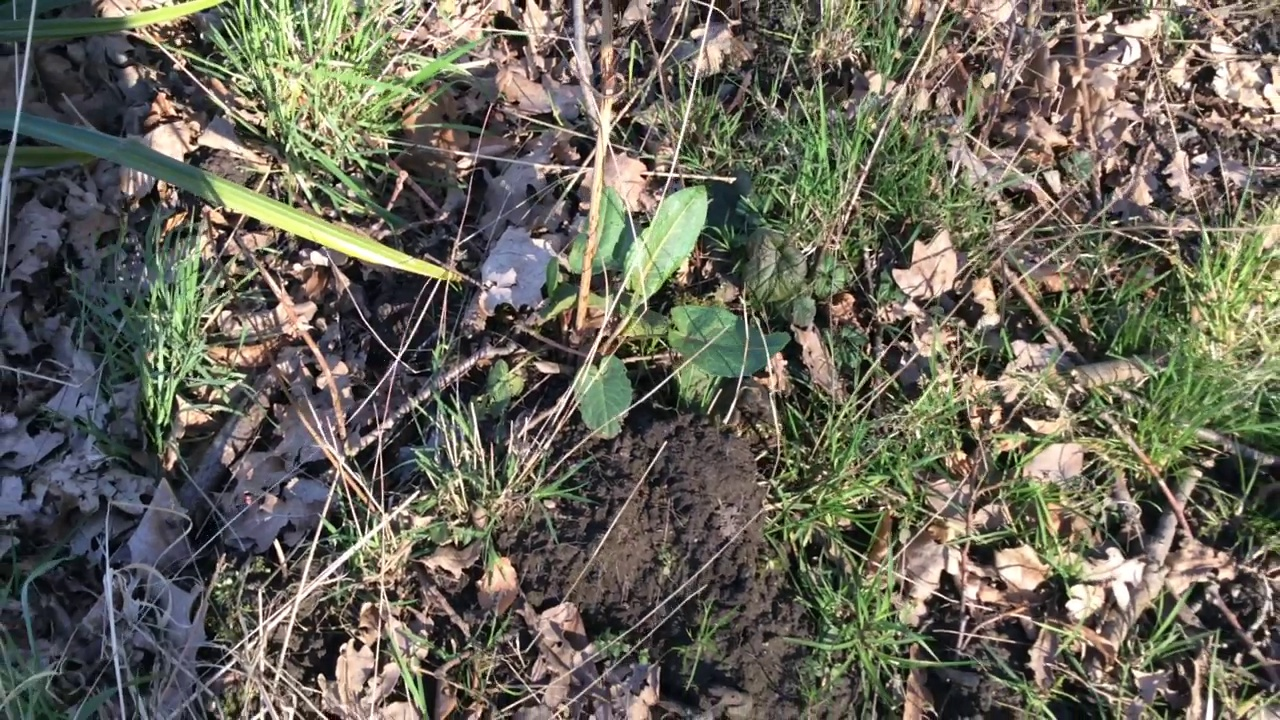rumex: (487, 184, 791, 439)
